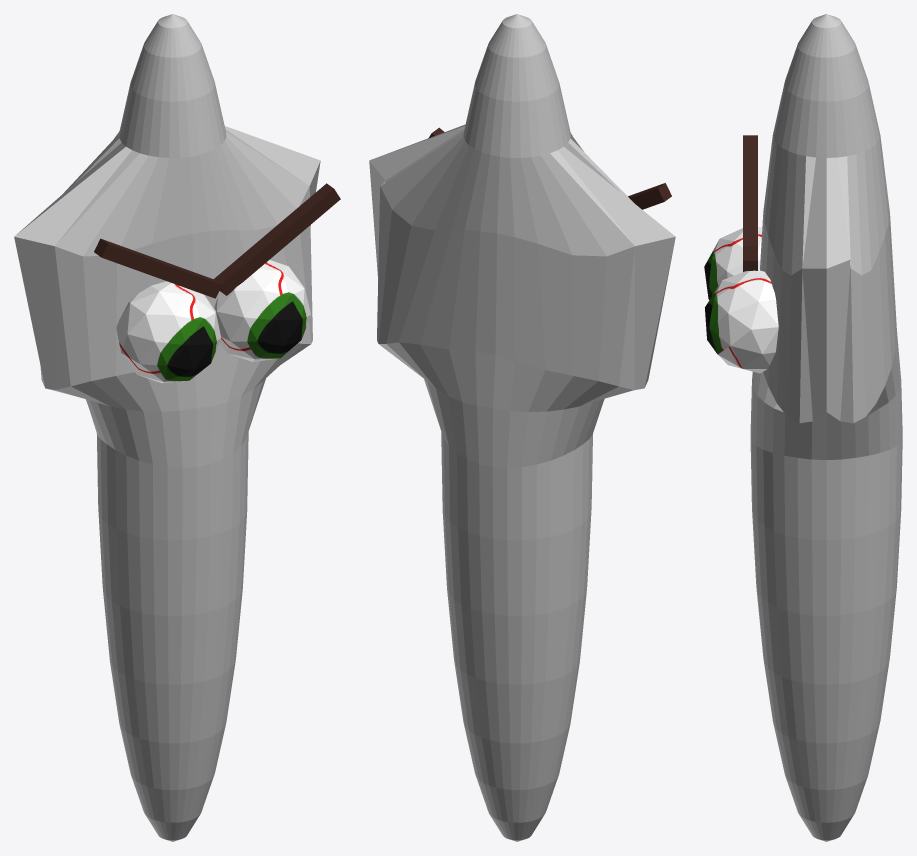
File: Baguette.fbx
3 views of the same model, side by side, from view 1: azimuth 30°, elevation 25°; view 2: azimuth 150°, elevation 25°; view 3: azimuth 270°, elevation 25° (orthographic).
Parts seen in each view (by area): view 1: Sphere.002, Icosphere, Icosphere.001, Cube.001, Cube; view 2: Sphere.002, Cube; view 3: Sphere.002, Icosphere.001, Icosphere, Cube.
Part boxes in pixels (x1,y1,x2,y2): Sphere.002: [14, 14, 320, 841]; Icosphere: [116, 281, 221, 383]; Icosphere.001: [214, 260, 310, 361]; Cube.001: [214, 183, 340, 295]; Cube: [94, 238, 221, 298]; Sphere.002: [369, 14, 675, 841]; Cube: [628, 183, 671, 209]; Sphere.002: [750, 14, 902, 841]; Icosphere.001: [705, 270, 778, 373]; Icosphere: [704, 227, 762, 299]; Cube: [743, 135, 757, 245].
Size of the model in its own units: 465 by 1200 by 261.
